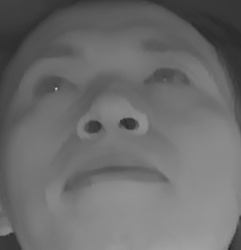eye: (30, 68, 81, 104), (146, 61, 199, 92)
mouth: (57, 152, 173, 199)
